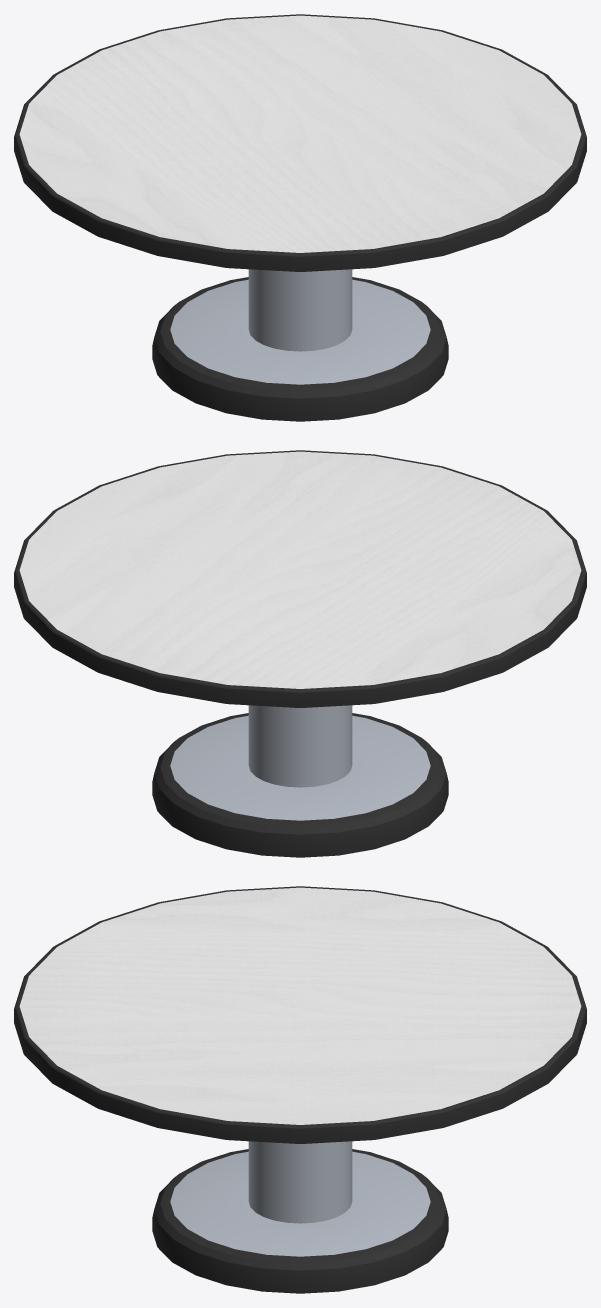
Rendered from Mesa-Circular.FBX.
3 views of the same model, one above another, from view 1: azimuth 30°, elevation 25°; view 2: azimuth 150°, elevation 25°; view 3: azimuth 270°, elevation 25° (orthographic).
Parts seen in each view (by area): view 1: Mesa-Circular; view 2: Mesa-Circular; view 3: Mesa-Circular.
Boxes of the visible parts, left/top/right/bottom form: Mesa-Circular: left=14, top=14, right=586, bottom=421; Mesa-Circular: left=14, top=450, right=586, bottom=857; Mesa-Circular: left=14, top=886, right=586, bottom=1293.
Bounding box in the file's own units: 224 × 224 × 97.13.
